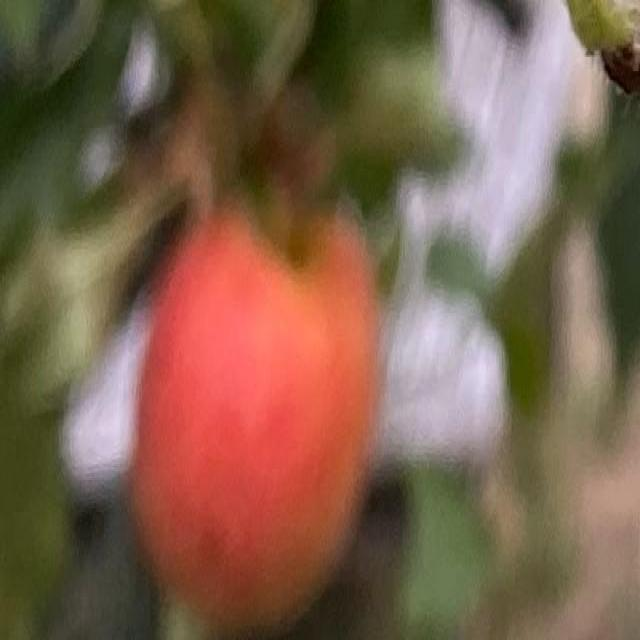Rotten Apple: (133, 210, 381, 634)
